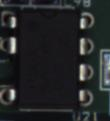IC: (9, 5, 93, 114)
